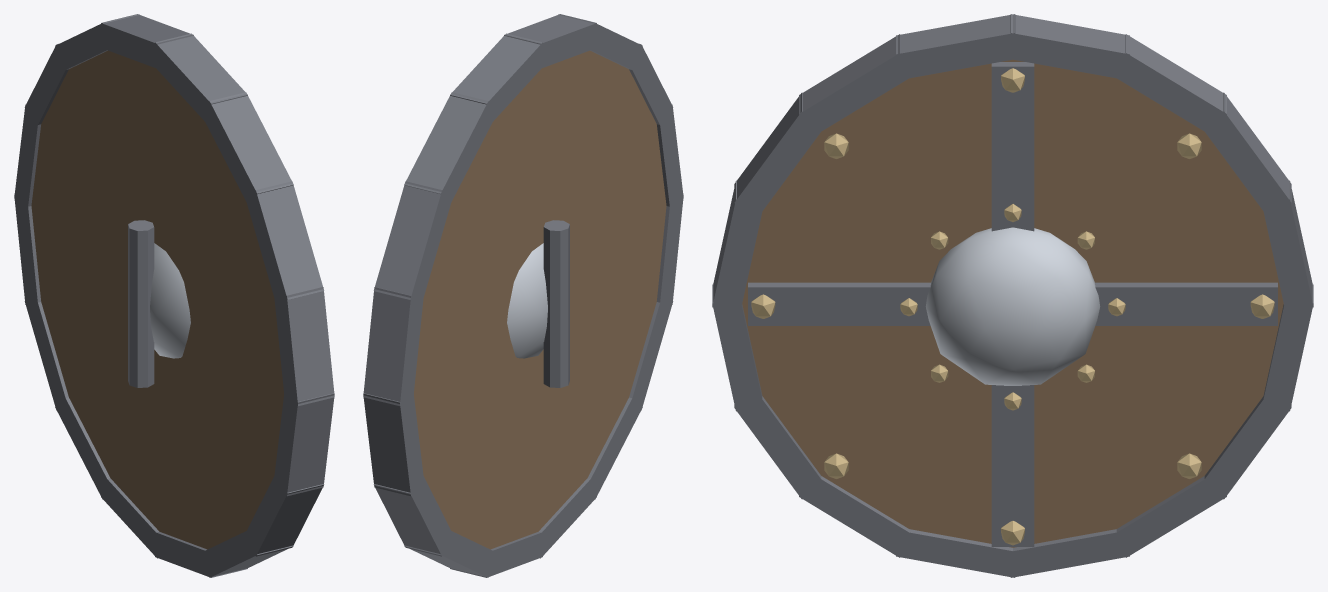
The model's file is sentinel_shield.glb.
The picture shows the model from 3 angles, left to right: view 1: azimuth 30°, elevation 25°; view 2: azimuth 150°, elevation 25°; view 3: azimuth 270°, elevation 25°; orthographic projection. The views are drawn at different scales.
Visible parts, largest first — view 1: SM_Weapon_TowerShield_A; view 2: SM_Weapon_TowerShield_A; view 3: SM_Weapon_TowerShield_A.
Boxes of the visible parts, x1,y1,x2,y2 form: SM_Weapon_TowerShield_A: (14, 14, 334, 577); SM_Weapon_TowerShield_A: (363, 14, 683, 577); SM_Weapon_TowerShield_A: (712, 14, 1313, 577).
Bounding box in the file's own units: 0.1309 × 0.5902 × 0.5902.
